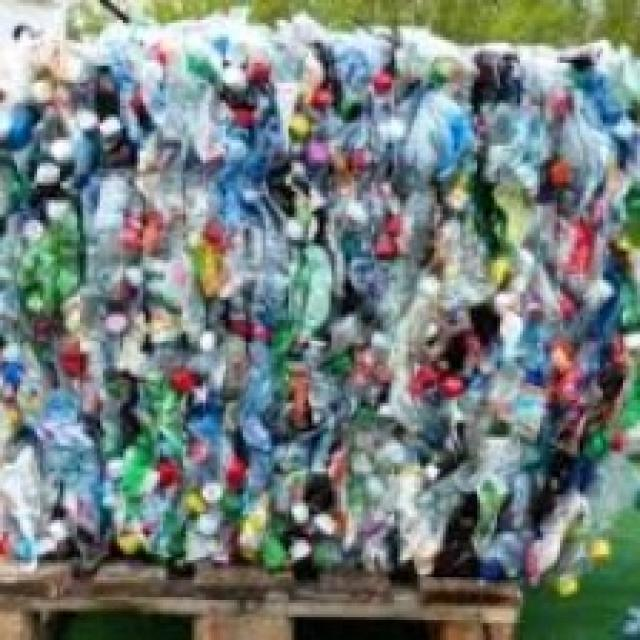heap: (93, 61, 587, 577)
plastic_bottle: (278, 235, 339, 365), (455, 363, 459, 417)
